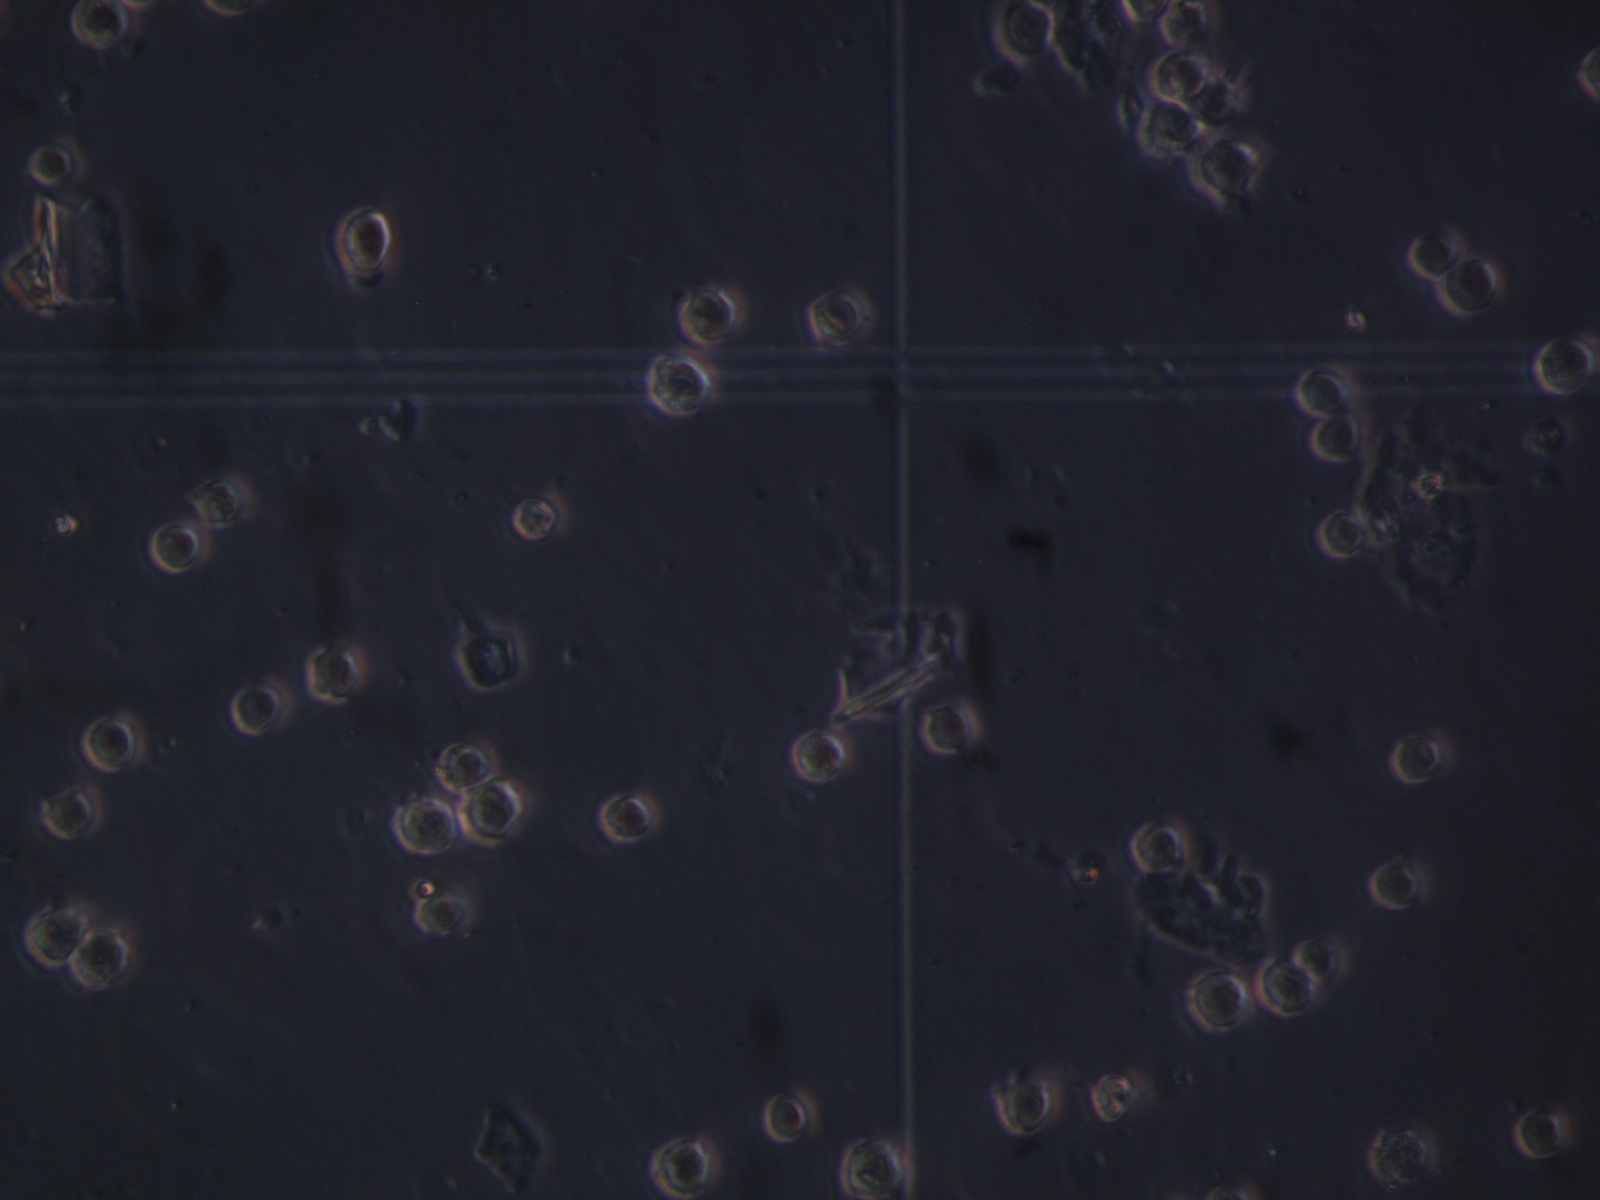hemo: (1188, 134, 1264, 200), (650, 1134, 724, 1199), (645, 350, 718, 415), (1436, 255, 1506, 321), (24, 904, 91, 971), (1529, 333, 1595, 398), (459, 782, 524, 847), (839, 1137, 907, 1200), (1136, 96, 1206, 158), (335, 205, 394, 277), (1187, 969, 1251, 1034), (457, 626, 522, 691), (808, 289, 877, 347), (993, 1, 1054, 66), (679, 285, 743, 345), (42, 782, 106, 841), (393, 795, 455, 856), (1259, 955, 1318, 1018), (83, 713, 146, 773), (1368, 1126, 1432, 1184), (72, 929, 130, 992), (1294, 361, 1358, 417), (307, 643, 365, 705), (232, 679, 294, 737), (601, 790, 665, 845), (71, 1, 141, 50), (791, 730, 854, 784), (150, 521, 214, 574), (1091, 1066, 1146, 1127), (1149, 50, 1209, 103), (922, 701, 979, 756), (197, 474, 254, 528), (433, 742, 498, 790), (514, 490, 573, 542), (998, 1080, 1052, 1134), (765, 1087, 816, 1143), (1516, 1108, 1571, 1160), (1409, 228, 1463, 280), (1369, 858, 1420, 913), (1293, 937, 1348, 986), (1133, 823, 1186, 874), (414, 892, 472, 938), (1392, 735, 1444, 785), (1308, 415, 1361, 464), (1317, 507, 1364, 560), (26, 140, 78, 187), (1163, 1, 1209, 49), (1123, 1, 1173, 23)
